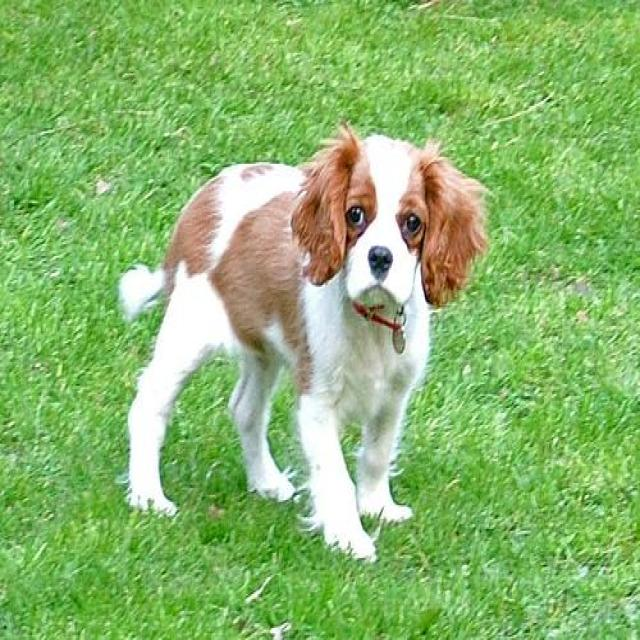dog: (106, 125, 518, 576)
